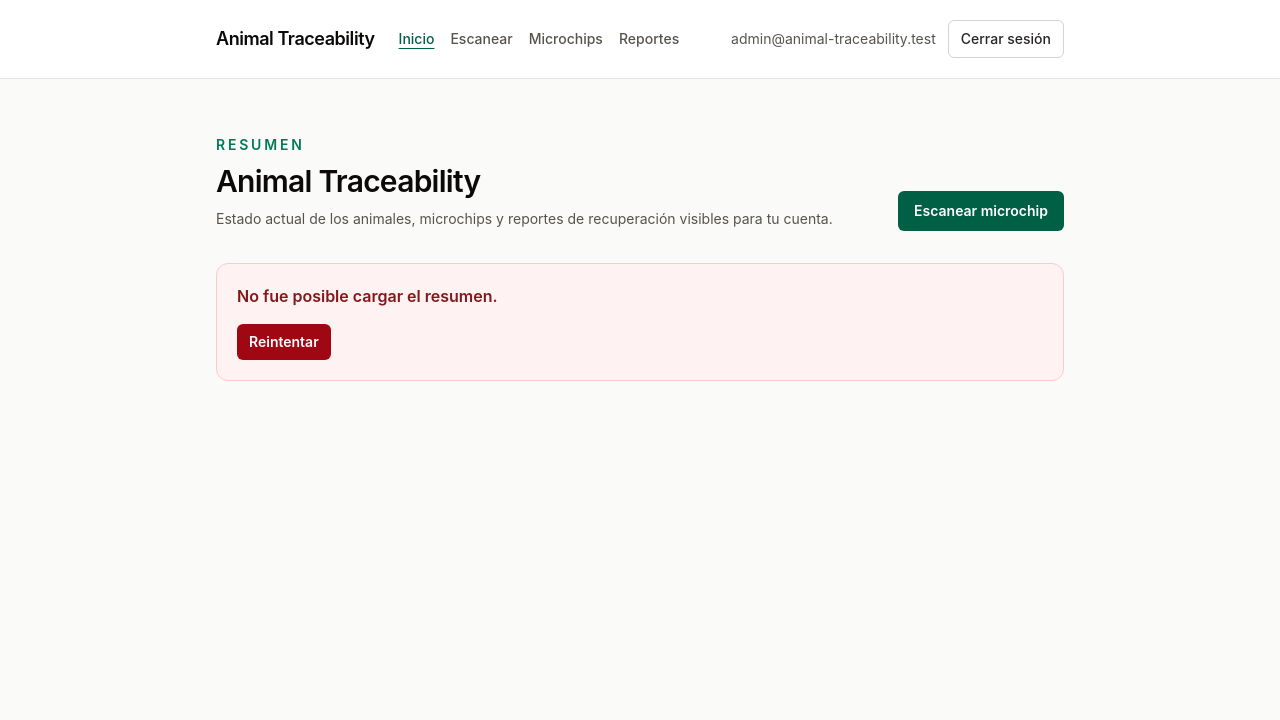
Test: M3 authentication shell › signs out and returns to the login route
Click the button "Cerrar sesión": [1006, 39] box [948,20,1064,58]
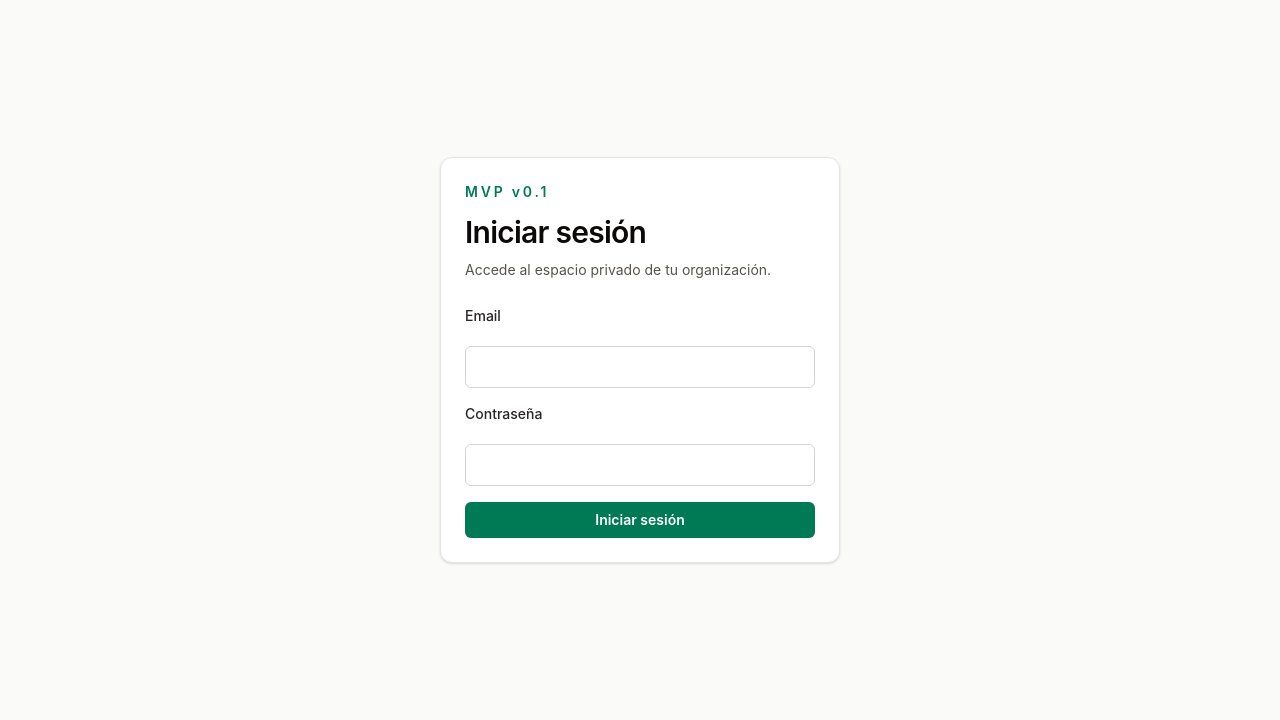
Expected: the heading "Iniciar sesión" is shown, [465,214,646,250]
